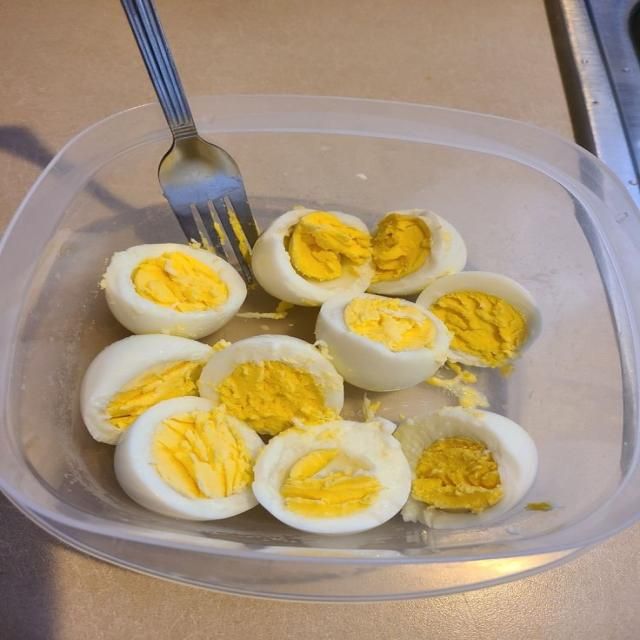egg boiled: (114, 397, 263, 520), (254, 421, 411, 534), (394, 407, 538, 528), (80, 335, 213, 444), (199, 335, 343, 435), (102, 244, 246, 339), (316, 293, 450, 391), (416, 271, 541, 367), (252, 208, 373, 305), (368, 210, 466, 296)
